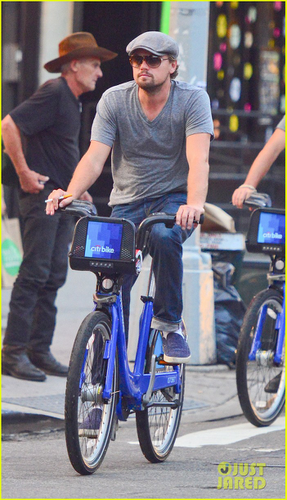bikerider: (40, 29, 225, 473)
